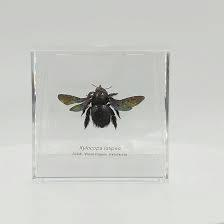Xylocopa: (50, 77, 158, 135)
